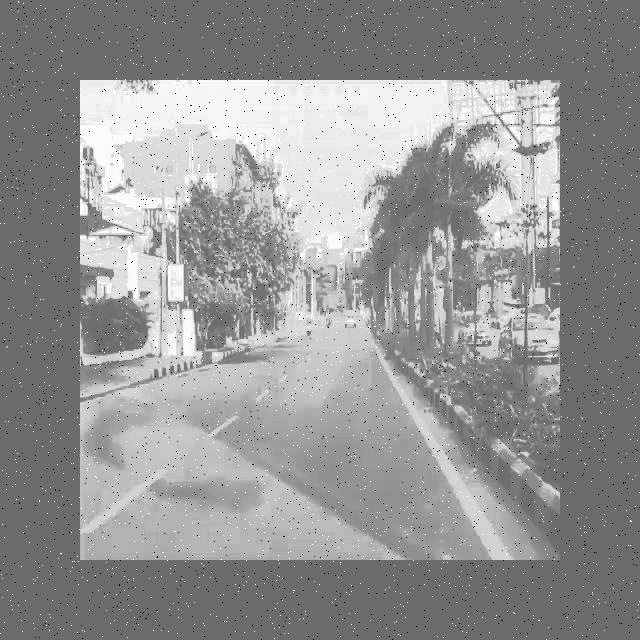Car: (502, 311, 558, 371), (457, 310, 496, 347)
